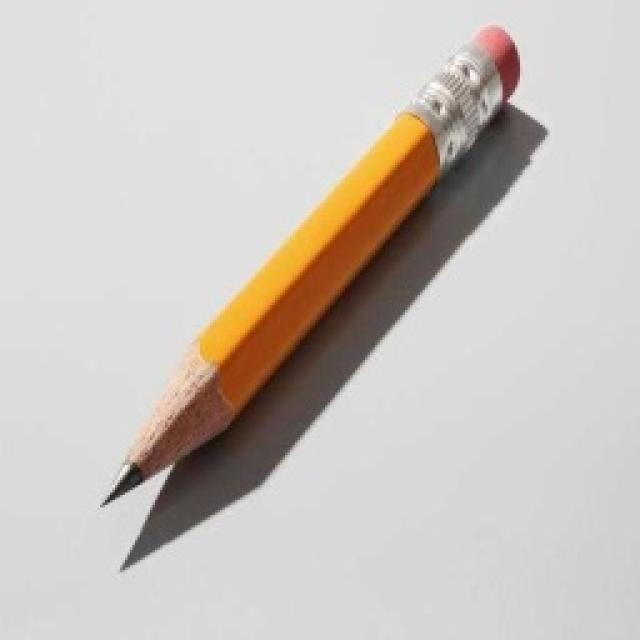pencil: (95, 18, 525, 512)
